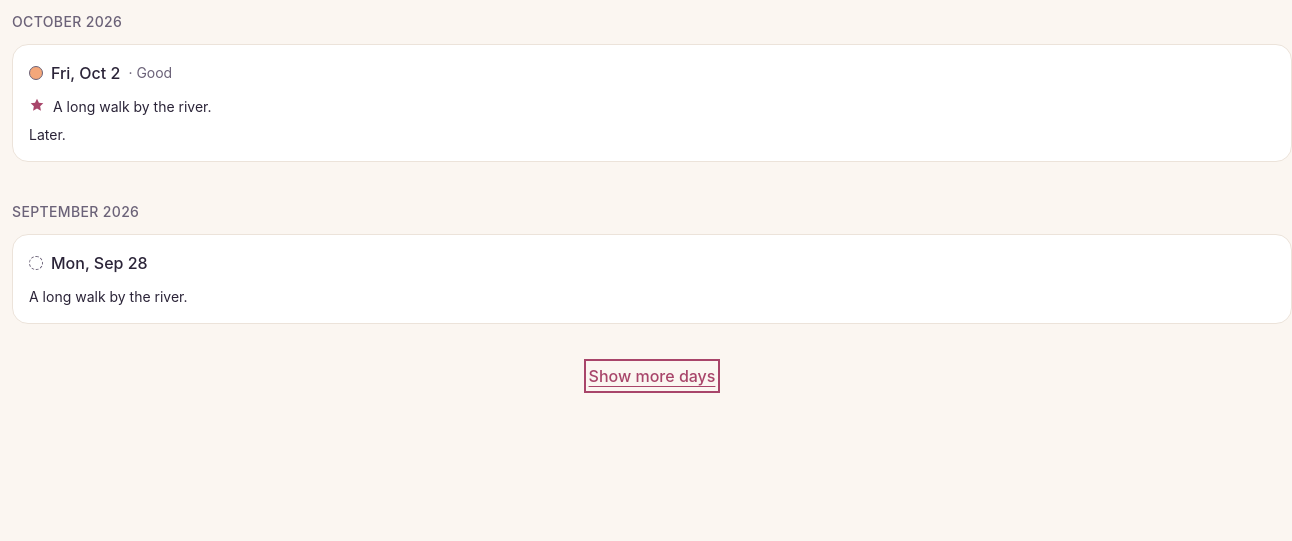
Test: TimelineList › Show more days: focus goes to the first new day, even when the button goes with the last page (a11y pass, 1.0)
Click the button with test id "timeline-load-more".
click(652, 376)  # box 589,364 -> 716,388
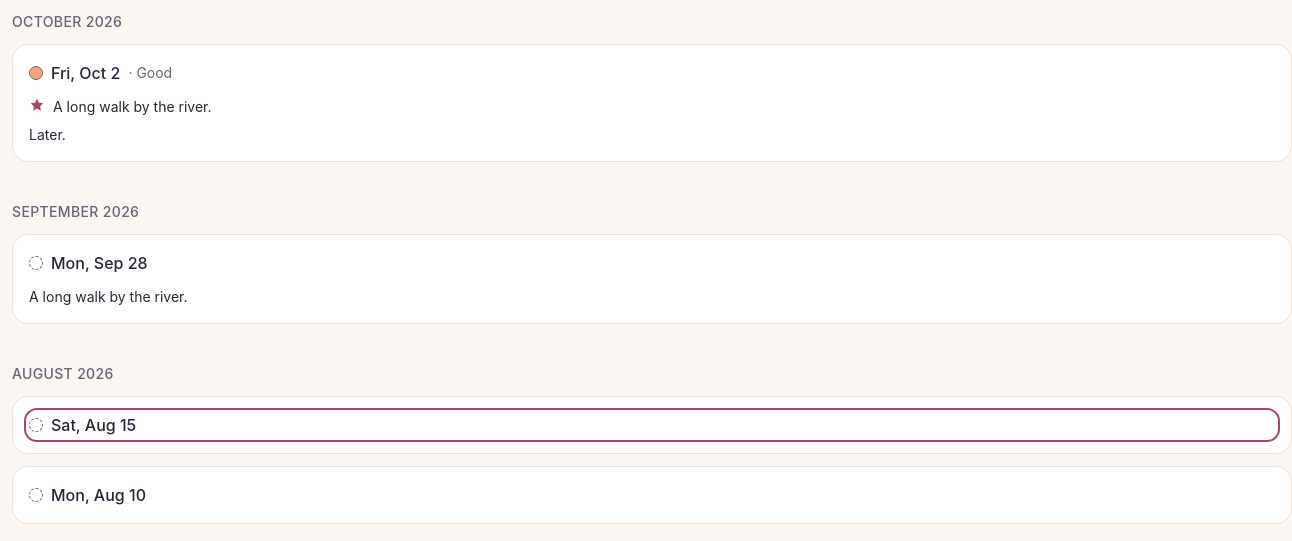
Now the button with test id "timeline-load-more" is gone
